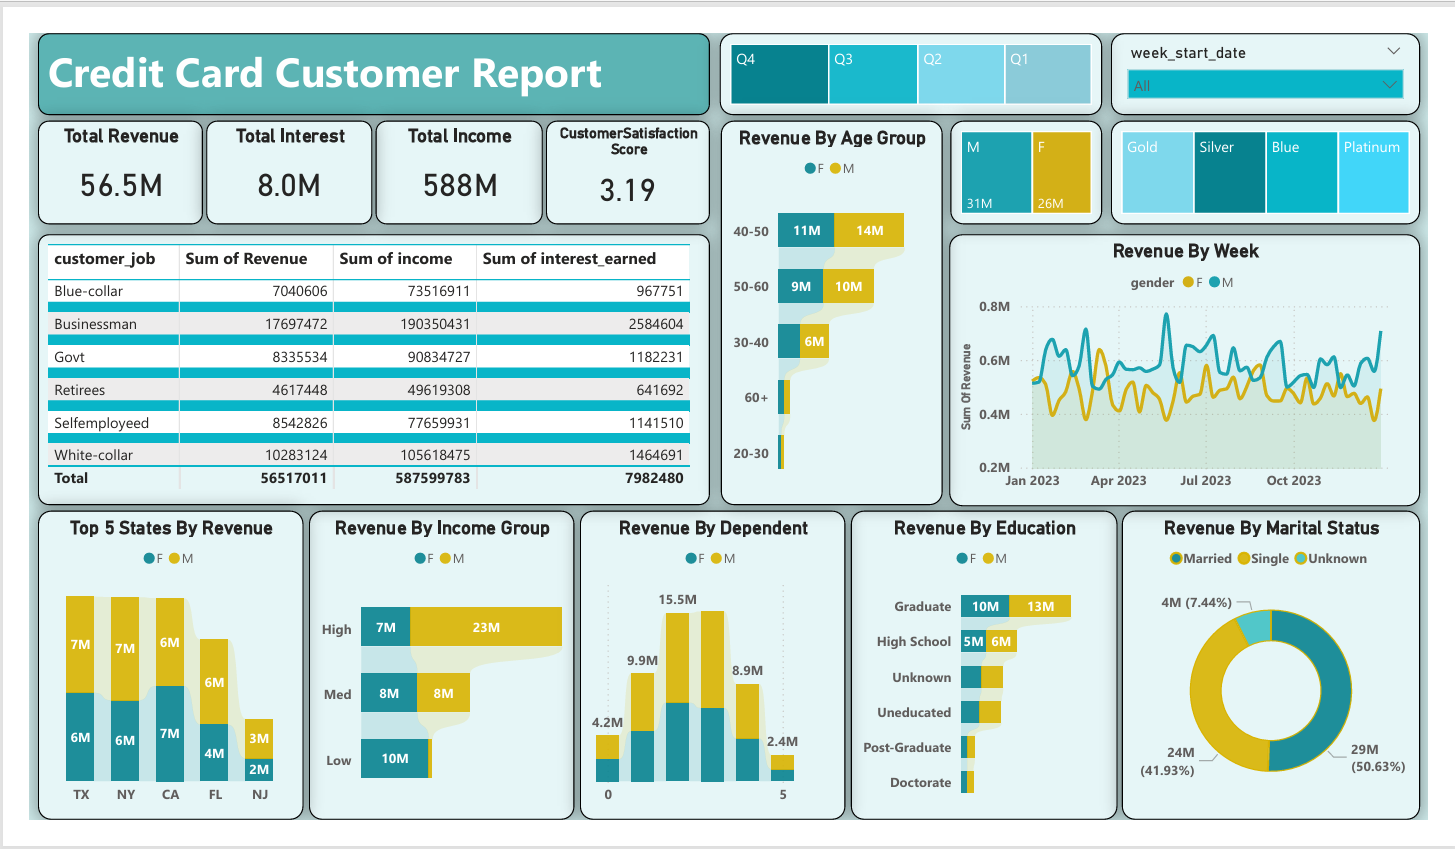

The dashboard page shown, as its layout file describes it:
{"tool":"powerbi","page":{"name":"CreditCardCustomer Report","canvas":[1280,720],"ordinal":0},"visuals":[{"type":"textbox","box":[7.7,0,615.8,75.1],"z":0},{"type":"barChart","title":"Revenue By Income Group","fields":{"Category":["public cust_detail.IncomeGroup"],"Y":["Sum(public cc_detail.Revenue)"],"Series":["public cust_detail.gender"]},"box":[255.8,436.6,243,283.4],"z":1000},{"type":"barChart","title":"Revenue By Education","fields":{"Category":["public cust_detail.education_level"],"Y":["Sum(public cc_detail.Revenue)"],"Series":["public cust_detail.gender"]},"box":[752.2,436.6,243.6,283.4],"z":2000},{"type":"columnChart","title":"Revenue By Dependent","fields":{"Y":["Sum(public cc_detail.Revenue)"],"Category":["public cust_detail.dependent_count"],"Series":["public cust_detail.gender"]},"box":[504,436.6,243,283.4],"z":3000},{"type":"donutChart","title":"Revenue By Marital Status","fields":{"Y":["Sum(public cc_detail.Revenue)"],"Category":["public cust_detail.marital_status"]},"box":[1000.3,436.6,272.7,283.4],"z":4000},{"type":"lineChart","title":"Revenue By Week","fields":{"Y":["Sum(public cc_detail.Revenue)"],"Series":["public cust_detail.gender"],"Category":["public cc_detail.week_start_date.Variation.Date Hierarchy.Year","public cc_detail.week_start_date.Variation.Date Hierarchy.Month","public cc_detail.week_start_date.Variation.Date Hierarchy.Day"]},"box":[842.3,184.1,431.1,248.5],"z":5000},{"type":"tableEx","fields":{"Values":["public cust_detail.customer_job","Sum(public cc_detail.Revenue)","Sum(public cust_detail.income)","Sum(public cc_detail.interest_earned)"]},"box":[7.7,183.8,615.8,248.2],"z":6000},{"type":"card","title":"Total Revenue","fields":{"Values":["Sum(public cc_detail.Revenue)"]},"box":[7.7,79.7,151.7,95],"z":7000},{"type":"card","title":"Total Income","fields":{"Values":["Sum(public cust_detail.income)"]},"box":[317.1,79.7,153.2,95],"z":8000},{"type":"card","title":"Total Interest","fields":{"Values":["Sum(public cc_detail.interest_earned)"]},"box":[162.4,79.7,151.7,95],"z":9000},{"type":"card","title":"CustomerSatisfaction Score","fields":{"Values":["Avg(public cust_detail.cust_satisfaction_score)"]},"box":[473.4,79.7,150.1,95],"z":10000},{"type":"slicer","fields":{"Values":["public cc_detail.week_start_date"]},"box":[989.5,0,283.8,75.2],"z":11000},{"type":"treemap","fields":{"Group":["public cc_detail.qtr"],"Values":["Avg(public cc_detail.client_num)"]},"box":[632.1,0,349.8,75.2],"z":12000},{"type":"treemap","fields":{"Values":["Sum(public cc_detail.Revenue)"],"Group":["public cust_detail.gender"]},"box":[842.6,79.7,139.4,95],"z":13000},{"type":"treemap","fields":{"Values":["Avg(public cc_detail.client_num)"],"Group":["public cc_detail.card_category"]},"box":[989.6,79.7,283.4,95],"z":14000},{"type":"barChart","title":"Revenue By Age Group","fields":{"Category":["public cust_detail.AgeGroup"],"Y":["Sum(public cc_detail.Revenue)"],"Series":["public cust_detail.gender"]},"box":[632.7,79.7,203.7,352.3],"z":16000},{"type":"columnChart","title":"Top 5 States By Revenue","fields":{"Category":["public cust_detail.state_cd"],"Y":["Sum(public cc_detail.Revenue)"],"Series":["public cust_detail.gender"]},"box":[7.7,436.6,243,283.4],"z":17000}]}

Visuals, with their boxes in screenshot pixels (x1, y1, x2, y2):
textbox: (42,38,708,119)
"Revenue By Income Group" barChart: (311,510,573,816)
"Revenue By Education" barChart: (847,510,1111,816)
"Revenue By Dependent" columnChart: (579,510,842,816)
"Revenue By Marital Status" donutChart: (1116,510,1411,816)
"Revenue By Week" lineChart: (945,237,1411,506)
tableEx - public cust_detail.customer_job x Sum(public cc_detail.Revenue): (42,237,708,505)
"Total Revenue" card: (42,124,206,227)
"Total Income" card: (377,124,543,227)
"Total Interest" card: (210,124,374,227)
"CustomerSatisfaction Score" card: (546,124,708,227)
slicer - public cc_detail.week_start_date: (1104,38,1411,119)
treemap - public cc_detail.qtr x Avg(public cc_detail.client_num): (718,38,1096,119)
treemap - Sum(public cc_detail.Revenue) x public cust_detail.gender: (945,124,1096,227)
treemap - Avg(public cc_detail.client_num) x public cc_detail.card_category: (1104,124,1411,227)
"Revenue By Age Group" barChart: (718,124,938,505)
"Top 5 States By Revenue" columnChart: (42,510,305,816)
